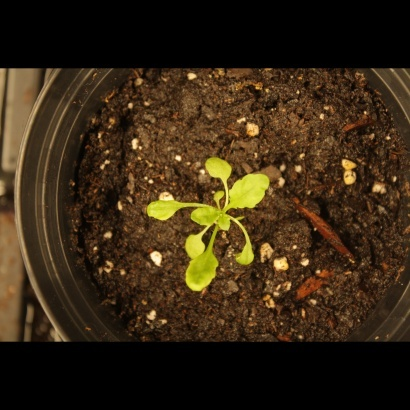leaf: (225, 173, 270, 211), (185, 246, 221, 293), (140, 194, 183, 228), (198, 151, 235, 181), (180, 230, 207, 262), (235, 239, 260, 272), (186, 206, 221, 229), (203, 183, 226, 206), (217, 211, 240, 234)
